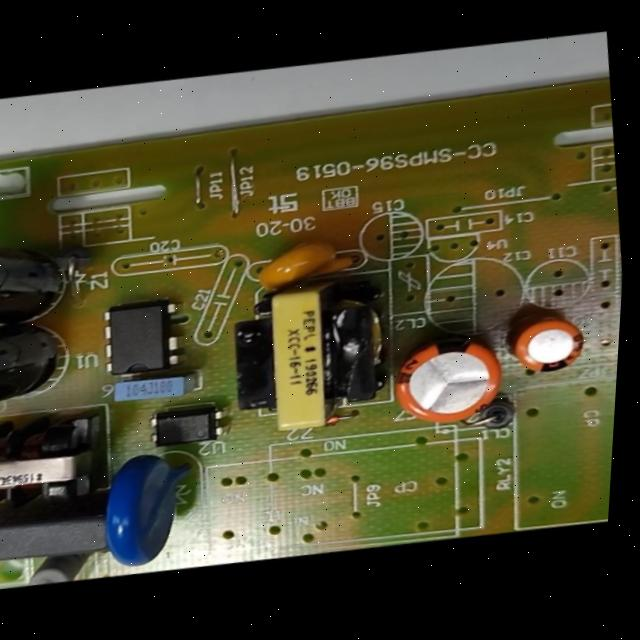Cap1: (382, 322, 513, 441)
Cap2: (498, 296, 604, 394)
Cap3: (0, 315, 75, 416)
Cap4: (0, 227, 79, 332)
MOSFET: (77, 288, 195, 394)
Mov: (71, 438, 204, 583)
Resistor: (22, 552, 83, 588)
Transformer: (212, 273, 399, 449), (0, 406, 107, 529)
